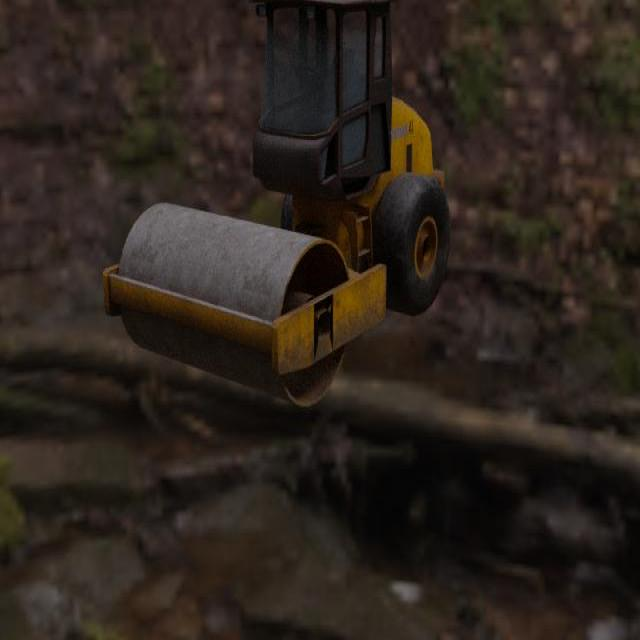Roller: (102, 0, 451, 408)
